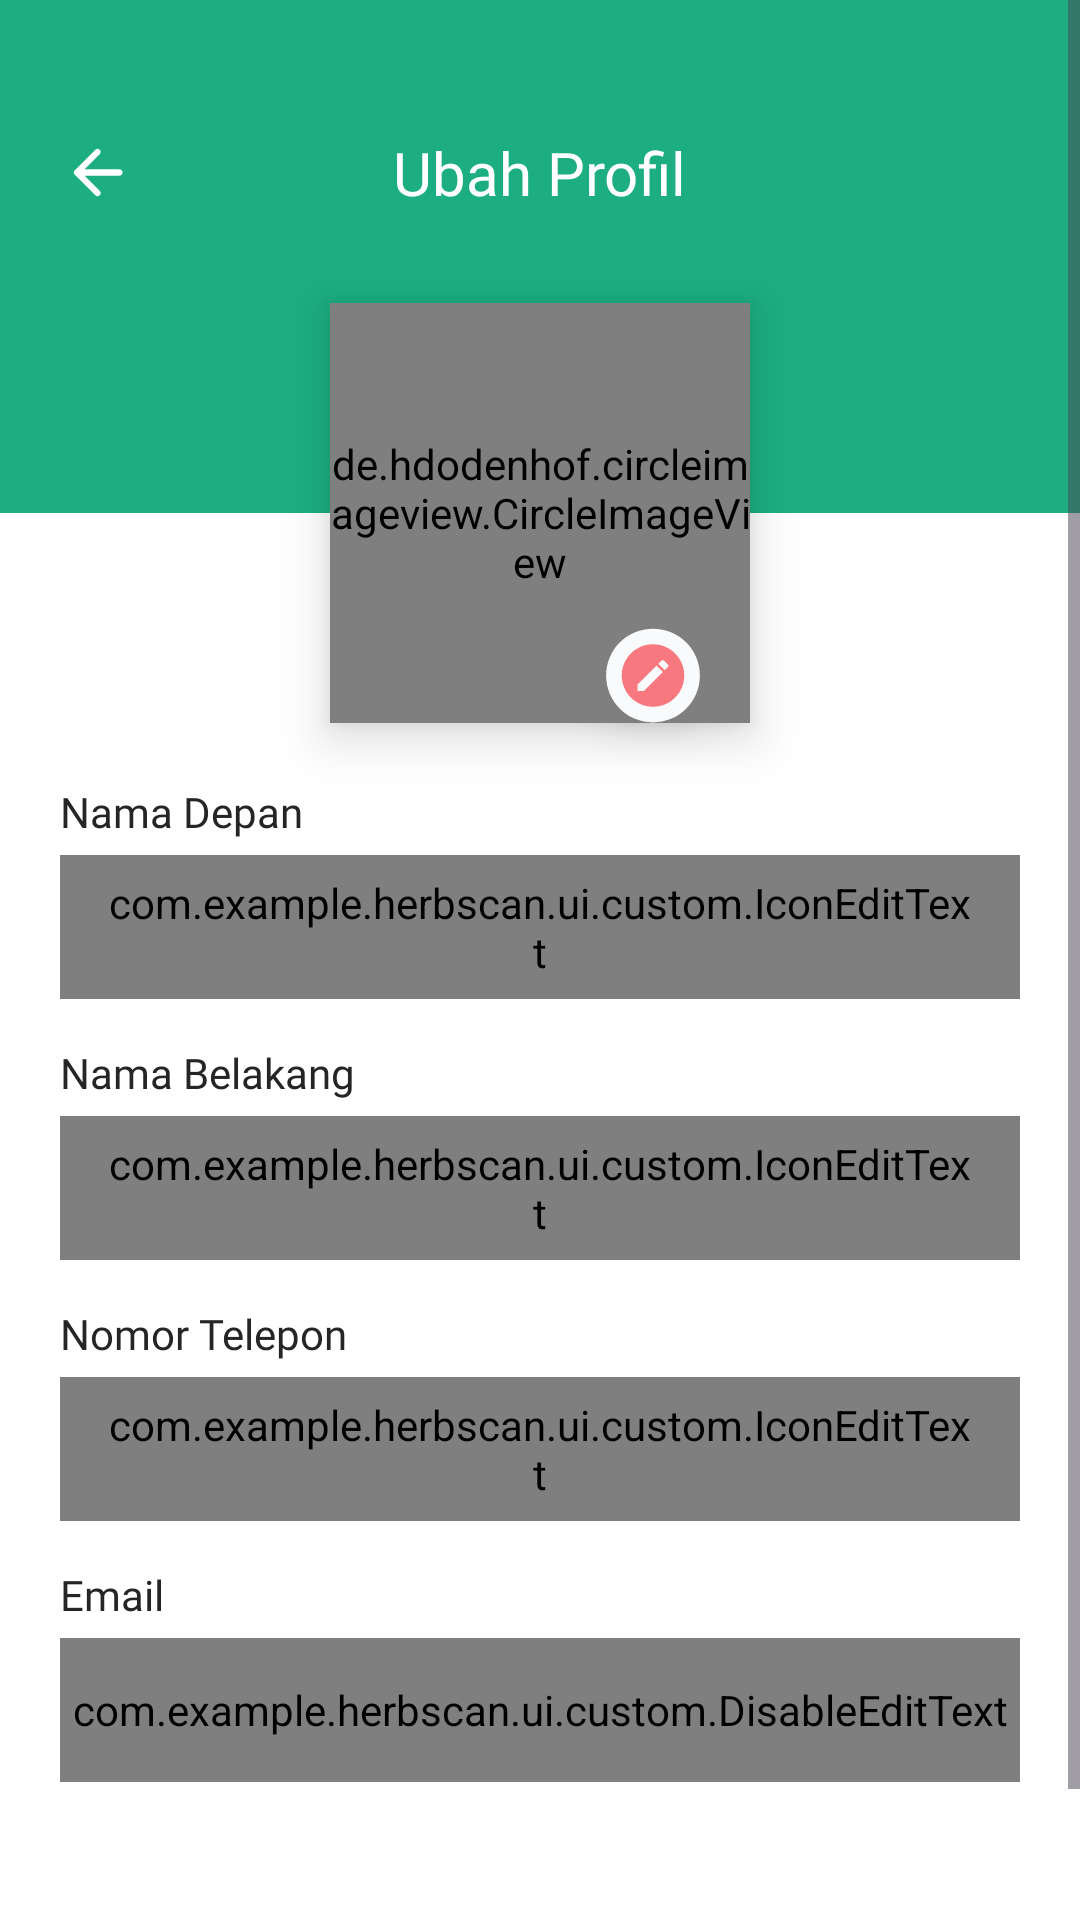

Icons on this 1080×1920 Android screen, each with the point to tap as [x,y]:
Ikon Ubah Profil: [653,675]
Kembali: [98,172]
